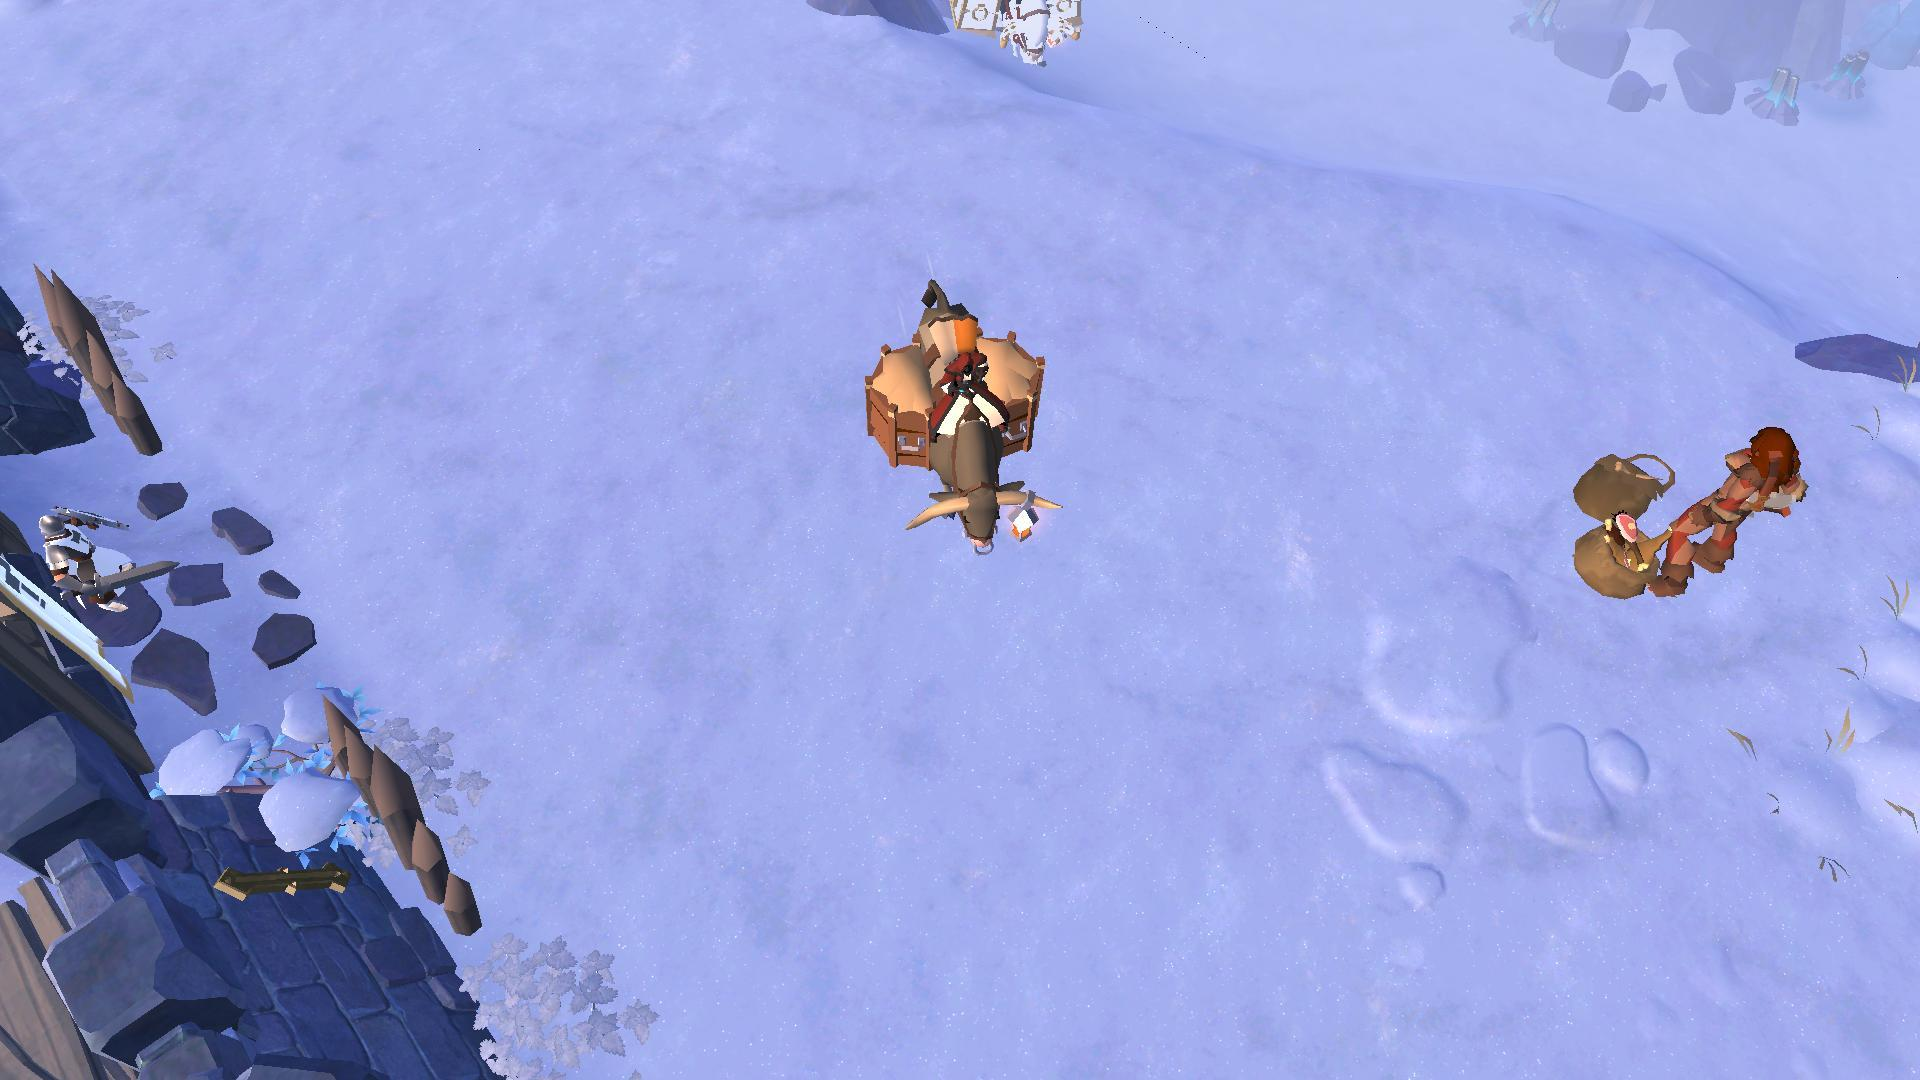enemy_factionKeeper: (1662, 423, 1804, 599)
